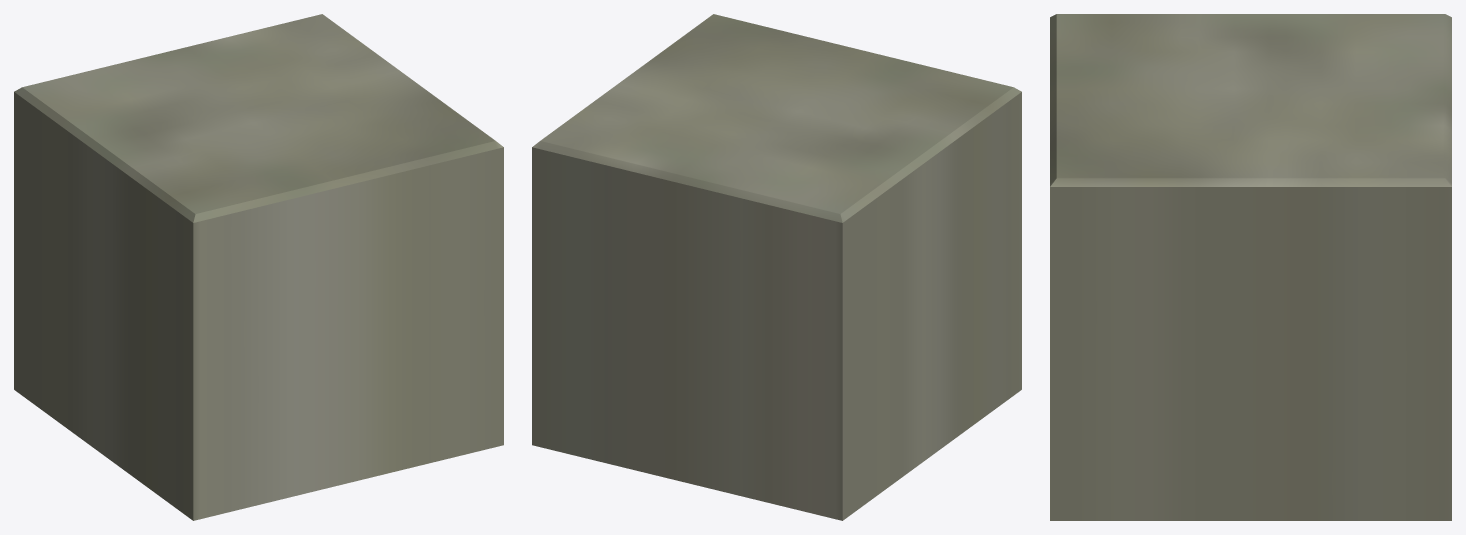
File: f03-t-stone-corner-south-west.glb
The picture shows the model from 3 angles, left to right: view 1: azimuth 30°, elevation 25°; view 2: azimuth 150°, elevation 25°; view 3: azimuth 270°, elevation 25°; orthographic projection. The views are drawn at different scales.
Visible parts, largest first — view 1: f03-t-stone-corner-south-west; view 2: f03-t-stone-corner-south-west; view 3: f03-t-stone-corner-south-west.
Part boxes in pixels (x1=…): f03-t-stone-corner-south-west: x1=14, y1=14, x2=503, y2=520; f03-t-stone-corner-south-west: x1=532, y1=14, x2=1021, y2=520; f03-t-stone-corner-south-west: x1=1050, y1=14, x2=1451, y2=520.
Bounding box in the file's own units: 0.06 × 0.056 × 0.06.
1 material, 1 textured.
